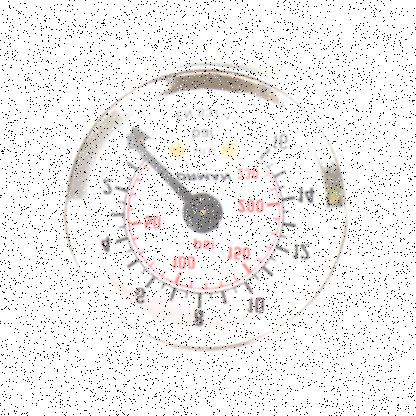needle: (126, 133, 193, 203)
